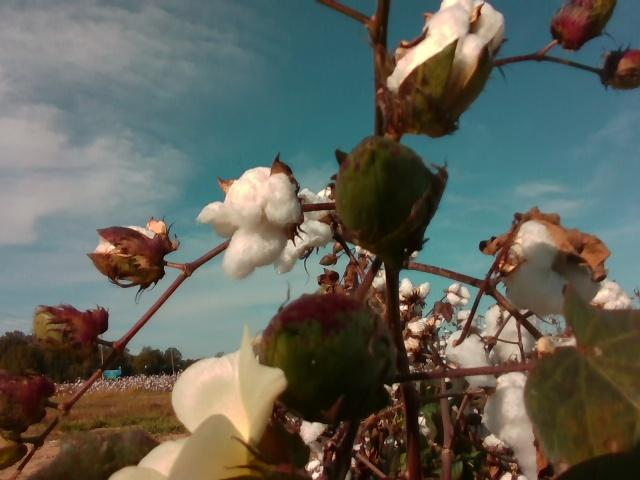cotton_ready: (106, 330, 287, 480), (381, 0, 507, 135), (197, 167, 301, 279), (505, 216, 601, 315), (484, 371, 539, 480), (274, 185, 340, 275), (94, 217, 176, 287), (487, 302, 538, 364), (444, 332, 498, 386), (299, 418, 330, 480), (592, 276, 636, 309)
